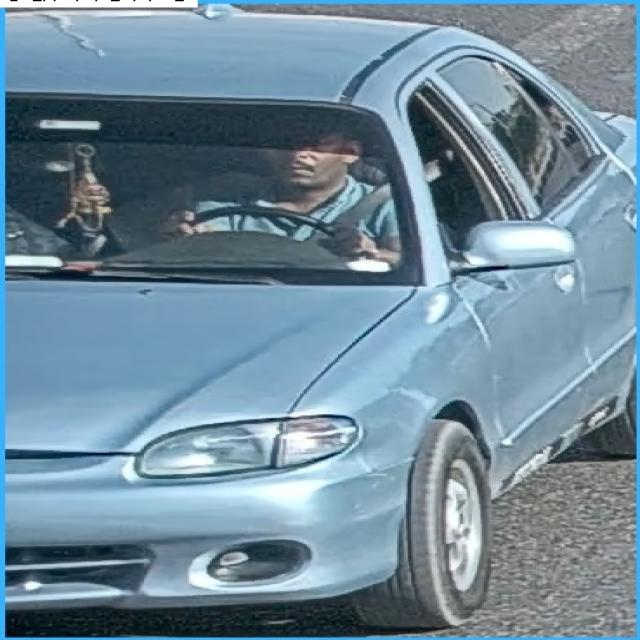windshield: (5, 95, 423, 284)
